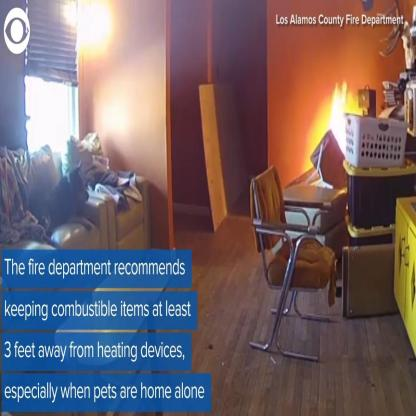fire: (324, 66, 354, 156)
